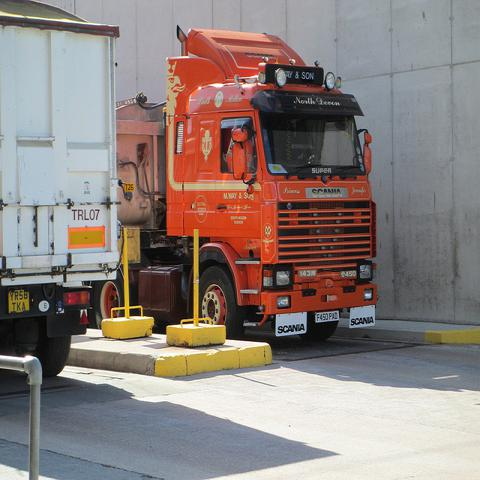truck: (115, 27, 377, 346), (0, 2, 119, 374)
